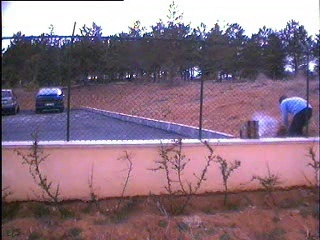smoke: (257, 111, 281, 137)
